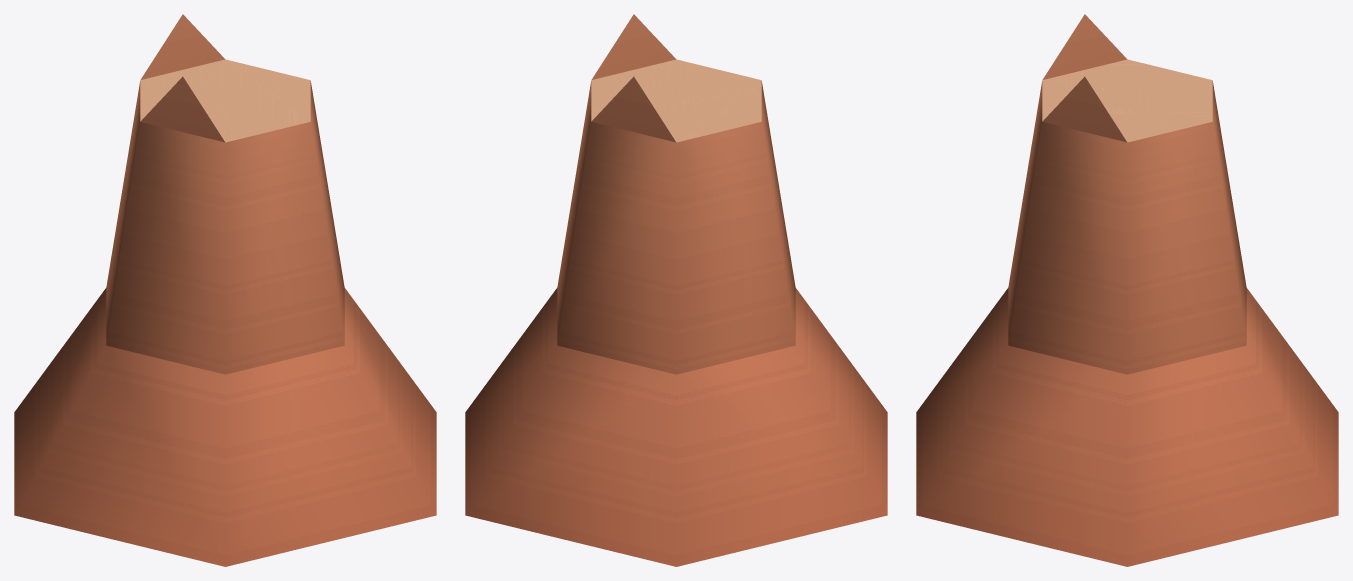
Rendered from tree-trunk.glb.
3 renders of one model, left to right at view 1: azimuth 30°, elevation 25°; view 2: azimuth 150°, elevation 25°; view 3: azimuth 270°, elevation 25°, orthographic.
Parts seen in each view (by area): view 1: tree-trunk; view 2: tree-trunk; view 3: tree-trunk.
Part boxes in pixels (x1,y1,x2,y2): tree-trunk: (14,14,436,566); tree-trunk: (465,14,887,566); tree-trunk: (916,14,1338,566).
Size of the model in its own units: 0.396 by 0.3751 by 0.3429.
Materials: 1 (1 with a texture image).
